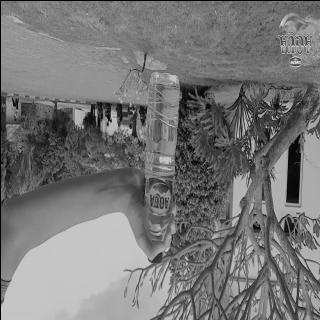plastic_bottles: (139, 69, 178, 264)
